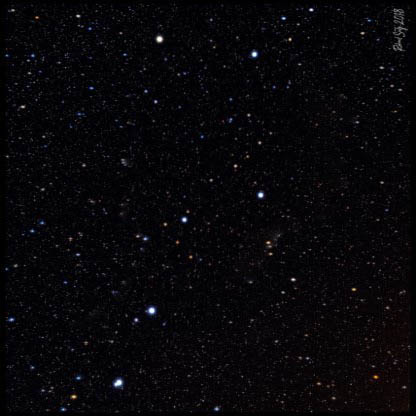Ursa Major: (139, 292, 172, 332), (168, 203, 197, 242), (95, 366, 129, 398), (146, 24, 174, 59), (239, 40, 271, 67), (253, 179, 275, 207)
